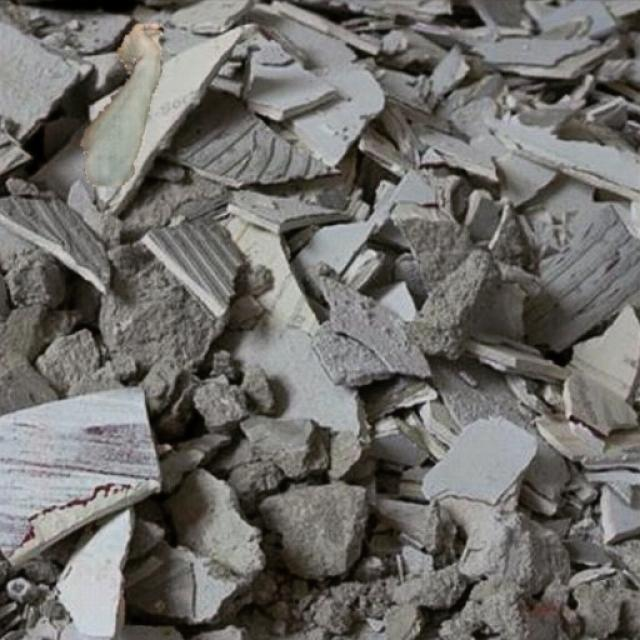Person in Rubble: (80, 24, 162, 185)
